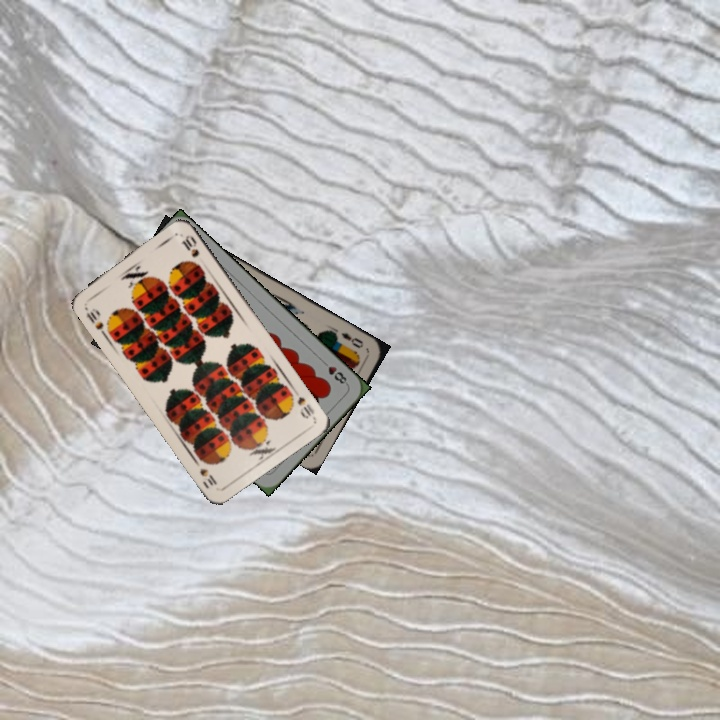EO: (337, 328, 366, 351)
H8: (317, 356, 350, 388)
S10: (80, 303, 106, 332), (293, 392, 317, 421)
